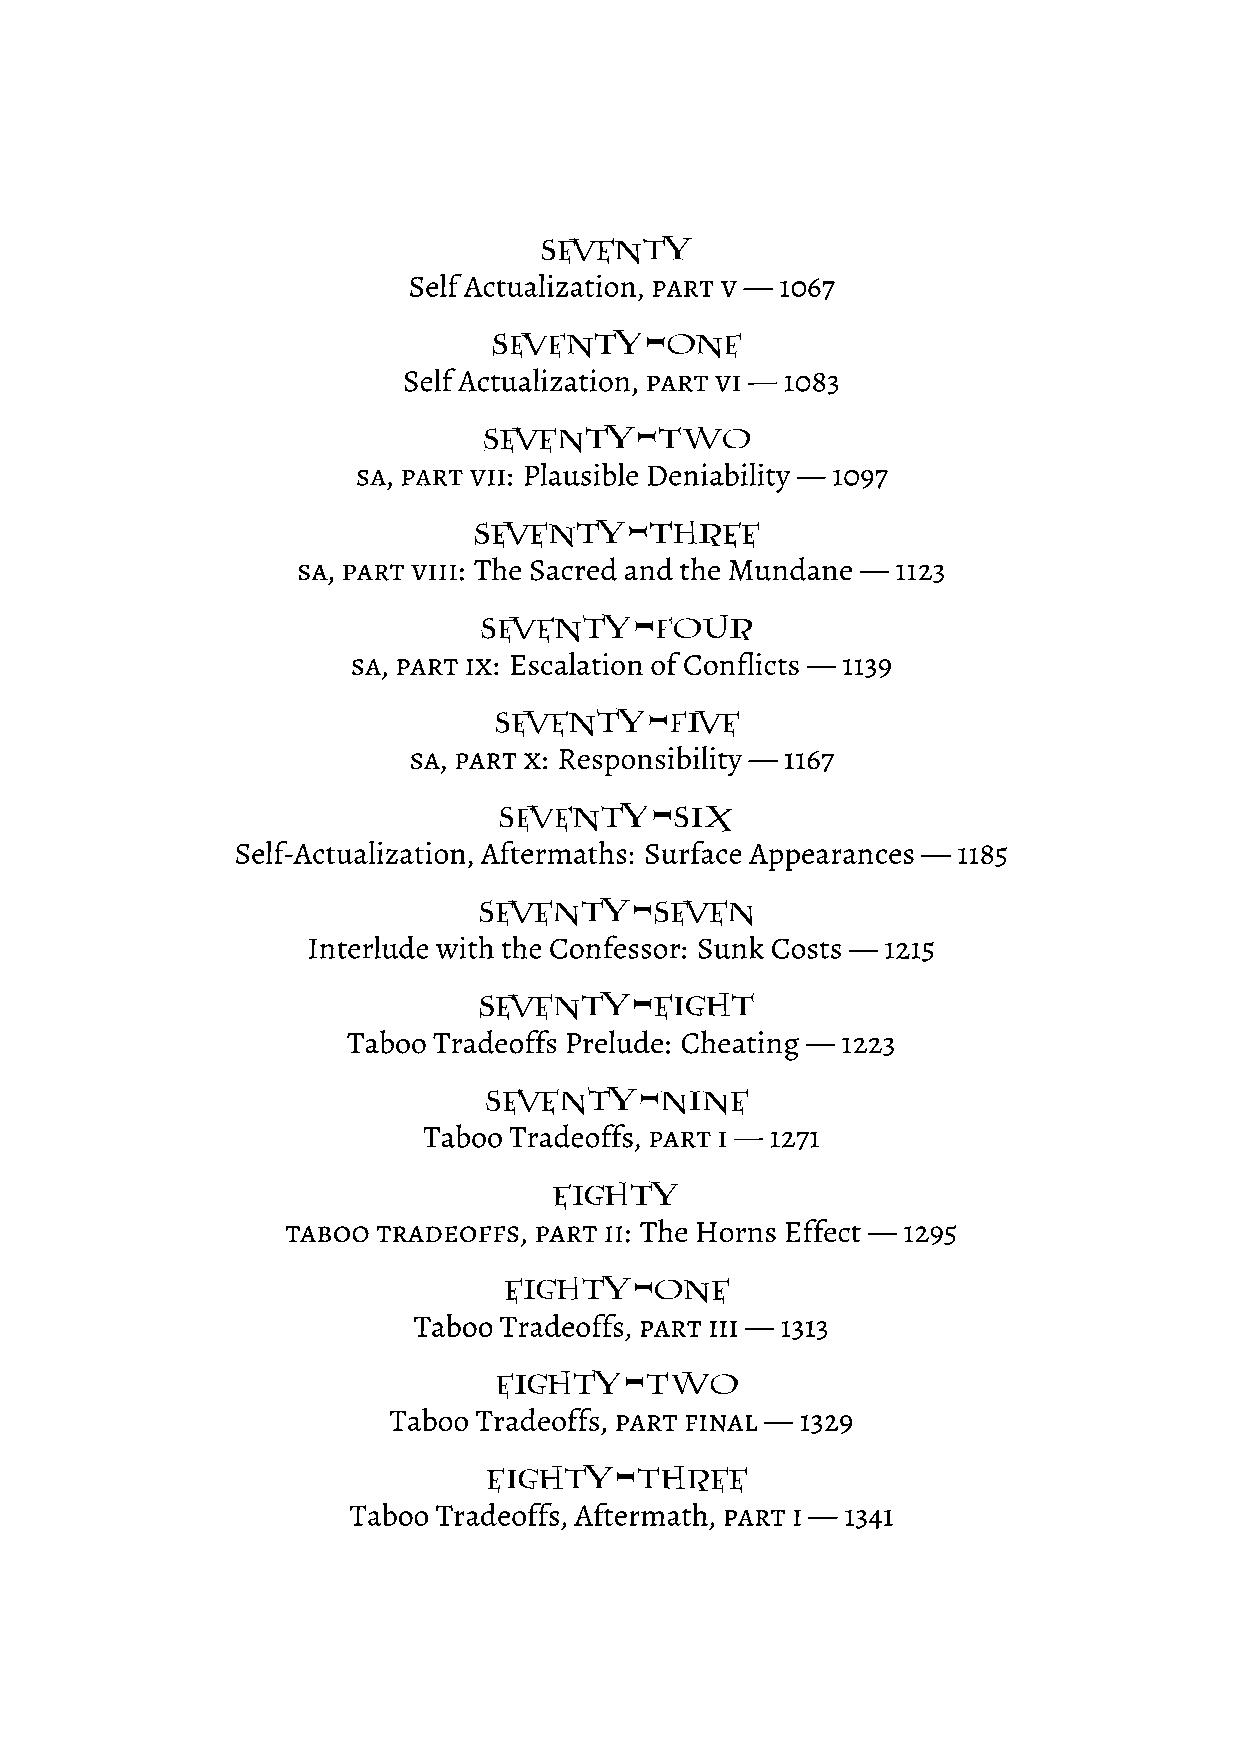TOC_chapter: (228, 798, 921, 875), (293, 515, 858, 595), (276, 1182, 866, 1255), (302, 900, 844, 968), (349, 1460, 807, 1537), (353, 421, 797, 497), (342, 990, 803, 1062), (386, 1359, 761, 1444), (338, 613, 801, 676), (397, 221, 743, 303), (403, 702, 746, 782), (411, 1078, 752, 1155), (408, 1272, 743, 1343), (397, 327, 747, 391), (564, 989, 568, 992)
TOC_pagenumber: (796, 1394, 858, 1443), (841, 1492, 899, 1535), (900, 1216, 966, 1253), (829, 458, 892, 495), (879, 934, 943, 968), (778, 268, 840, 303), (837, 654, 900, 687), (890, 558, 954, 590), (782, 365, 841, 400), (780, 739, 837, 774), (839, 1031, 900, 1063), (764, 1123, 823, 1157), (777, 1310, 835, 1343), (958, 840, 1015, 870)
